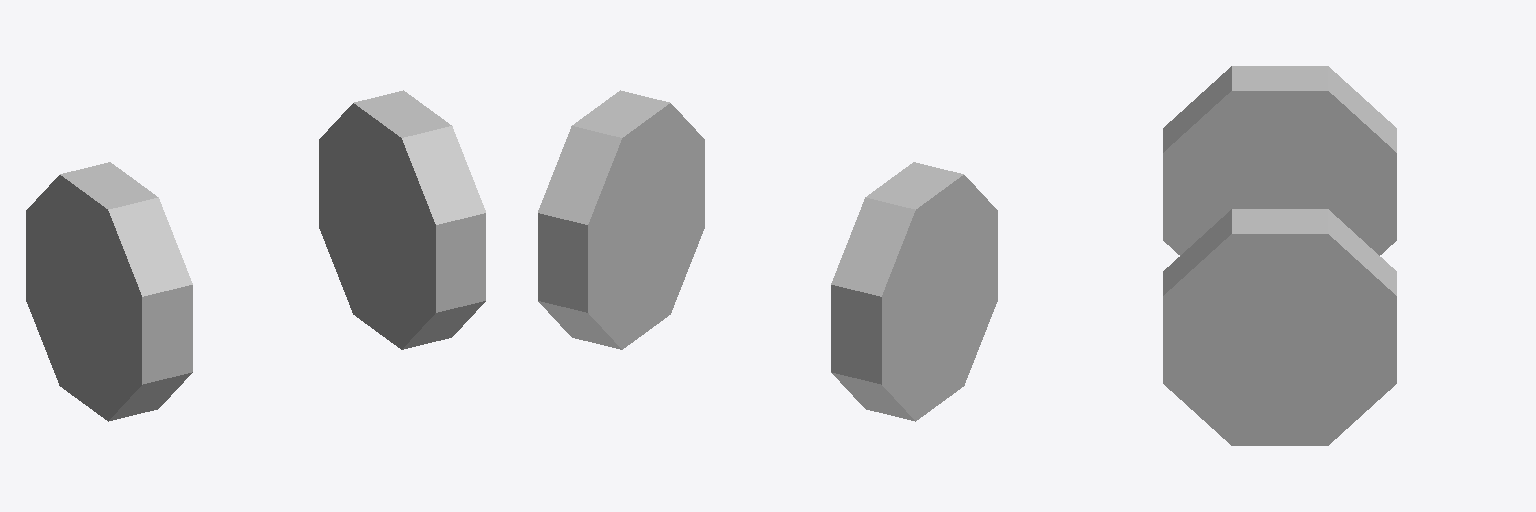
The model's file is wheels_blind_create.obj.
3 renders of one model, left to right at view 1: azimuth 30°, elevation 25°; view 2: azimuth 150°, elevation 25°; view 3: azimuth 270°, elevation 25°, orthographic.
Parts seen in each view (by area): view 1: Cube.003, Cube.004; view 2: Cube.003, Cube.004; view 3: Cube.004, Cube.003.
Part boxes in pixels (left/top/right/bottom): Cube.003: left=26, top=162, right=192, bottom=421; Cube.004: left=319, top=90, right=485, bottom=349; Cube.003: left=831, top=162, right=997, bottom=421; Cube.004: left=538, top=90, right=704, bottom=349; Cube.004: left=1163, top=209, right=1396, bottom=445; Cube.003: left=1163, top=66, right=1396, bottom=255.
Size of the model in its own units: 2.12 by 1.25 by 1.25.